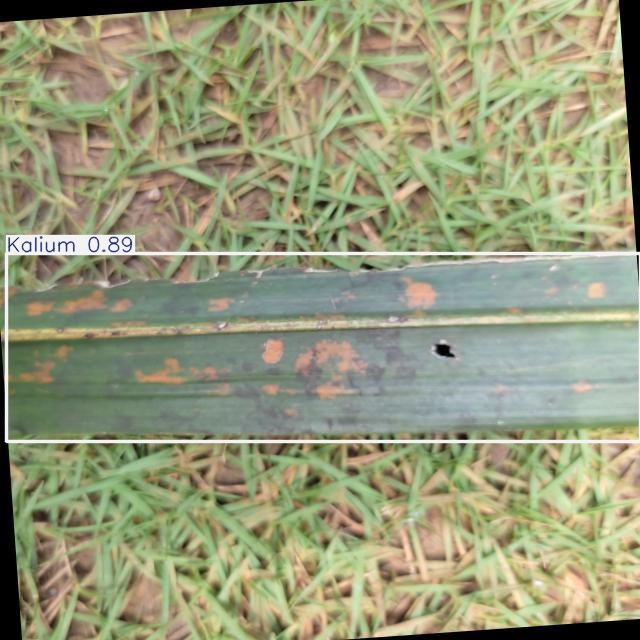Kalium: (7, 253, 640, 441)
